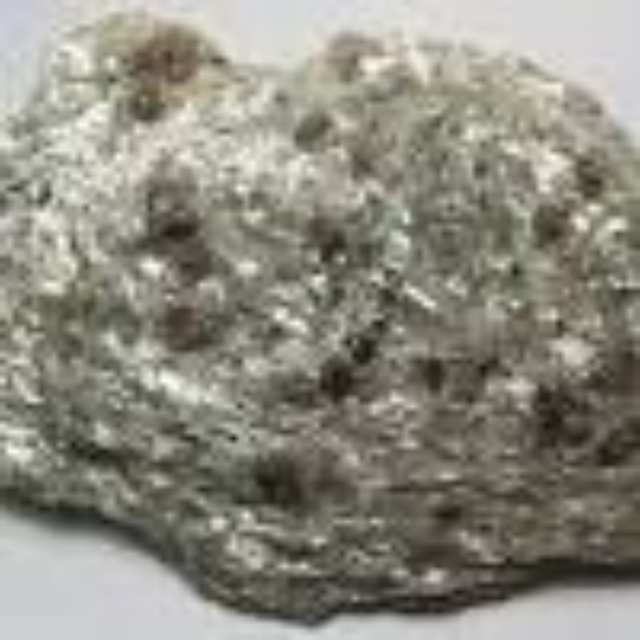obstacle: (0, 13, 634, 608)
